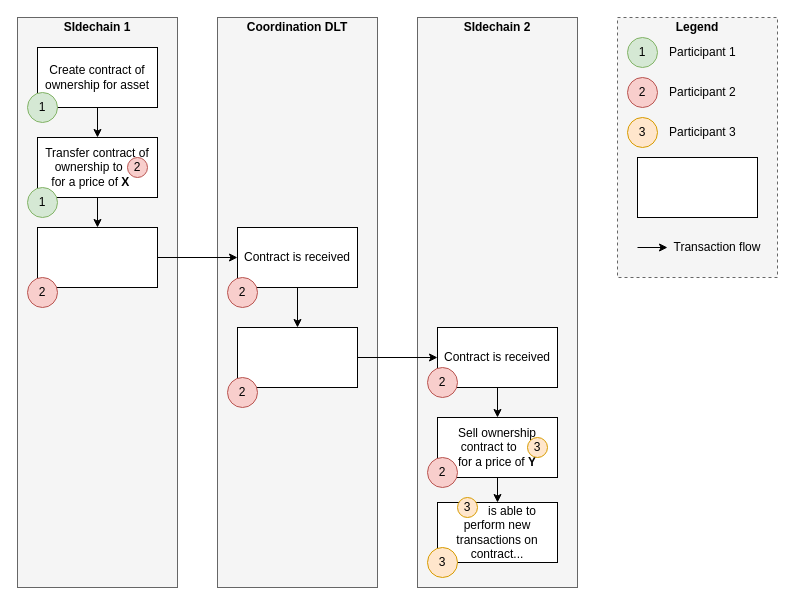
Image size: 795x605. Some labels were removed from this diagram. The shapes that lost their labels are listed below. From the top down, each one's centre as x and y in pixels, then its label:
At (x=697, y=187): "Transaction".
At (x=97, y=257): "Send contract to coordination DLT and destroy on sidechain 1".
At (x=297, y=357): "Send contract to sidechain 2".
